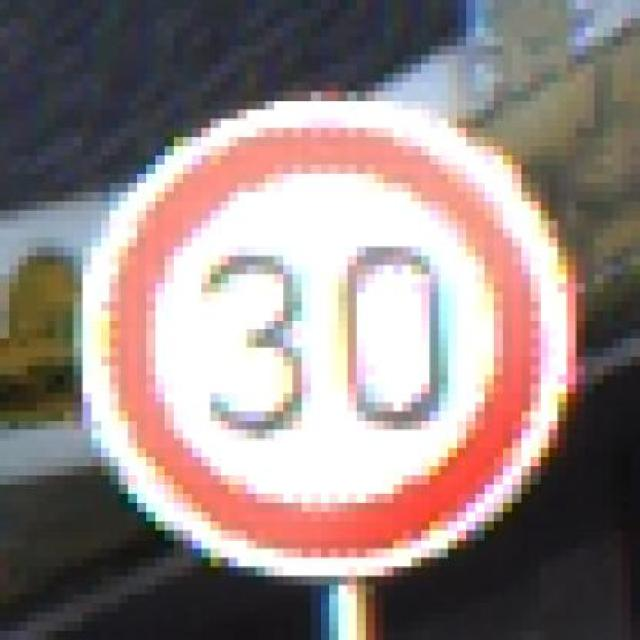Speed Limit 30 KMPh: (46, 64, 632, 604)
